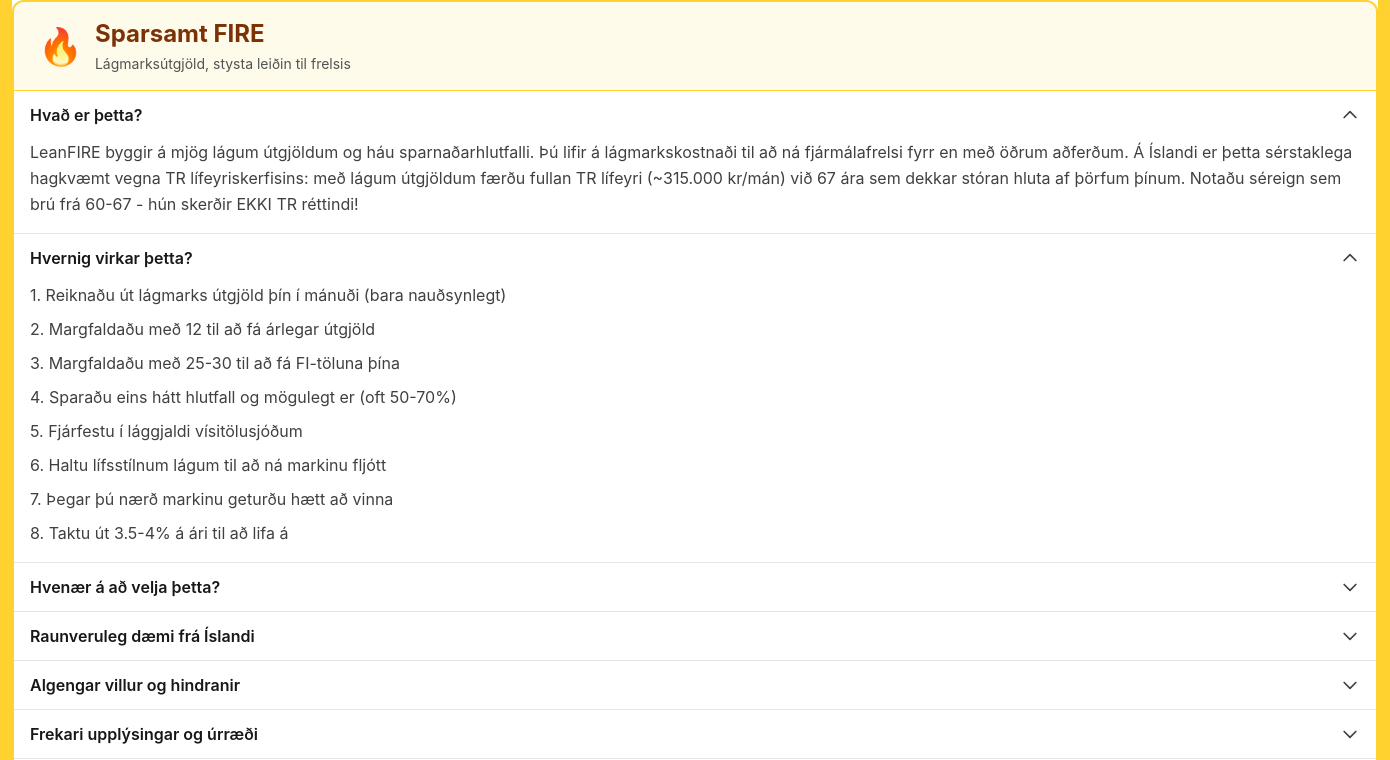
Test: DetailedExplanation › renders common pitfalls section
Note: Open pitfalls section
Click the button "Algengar villur og hindranir": (135, 685) [14,661,1376,709]
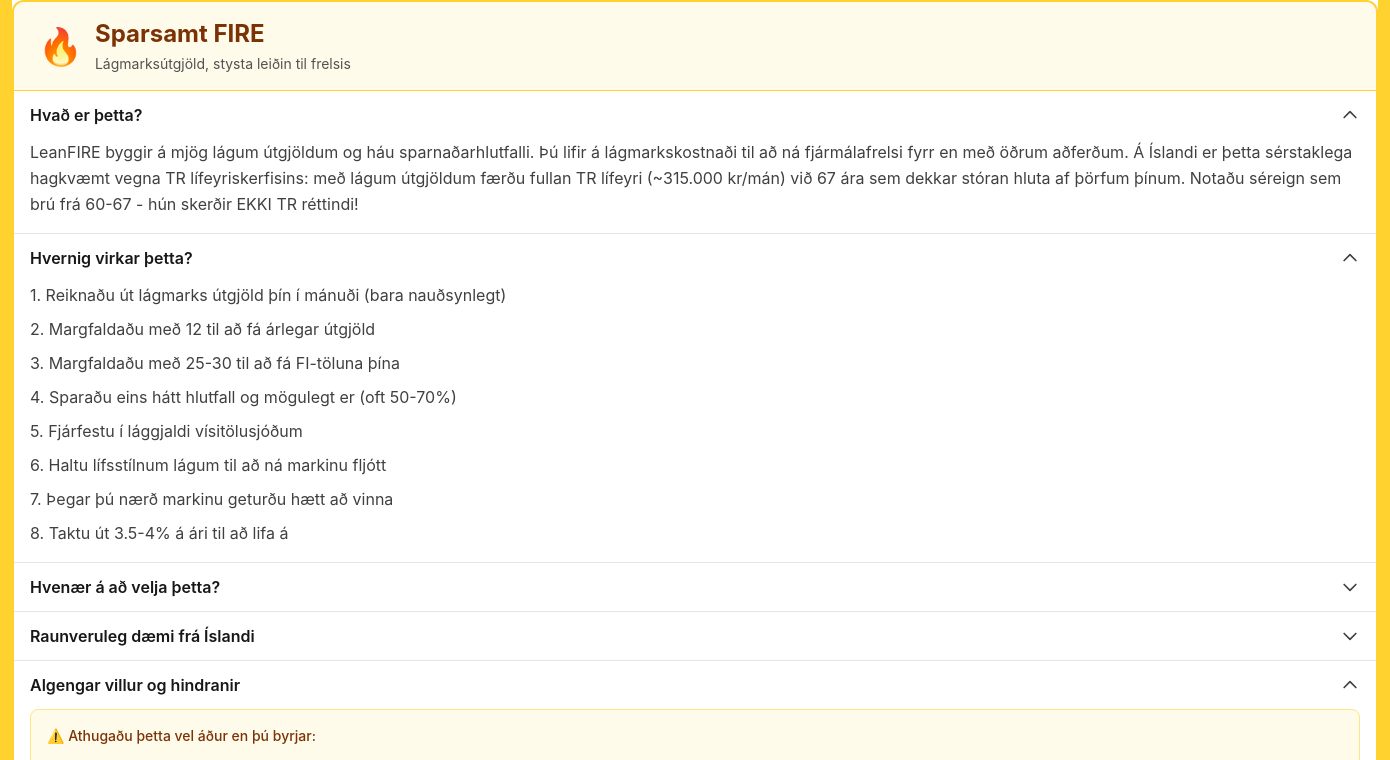
Expected: the text "⚠️ Athugaðu þetta vel áður en þú byrjar:" is shown, [47,727,316,744]
